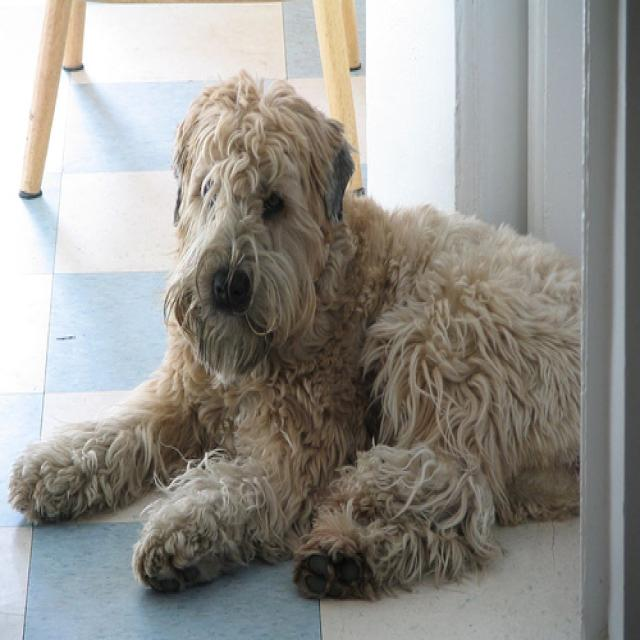dog-wheaten_terrier: (1, 75, 594, 611)
